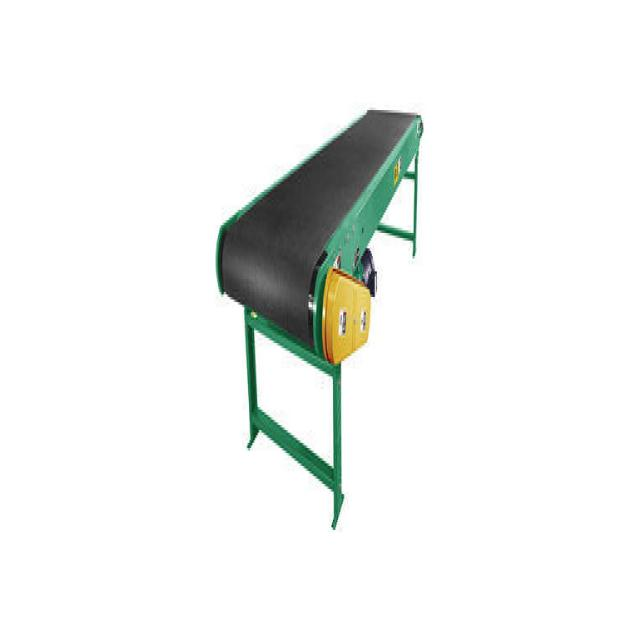conveyor: (214, 76, 421, 536)
